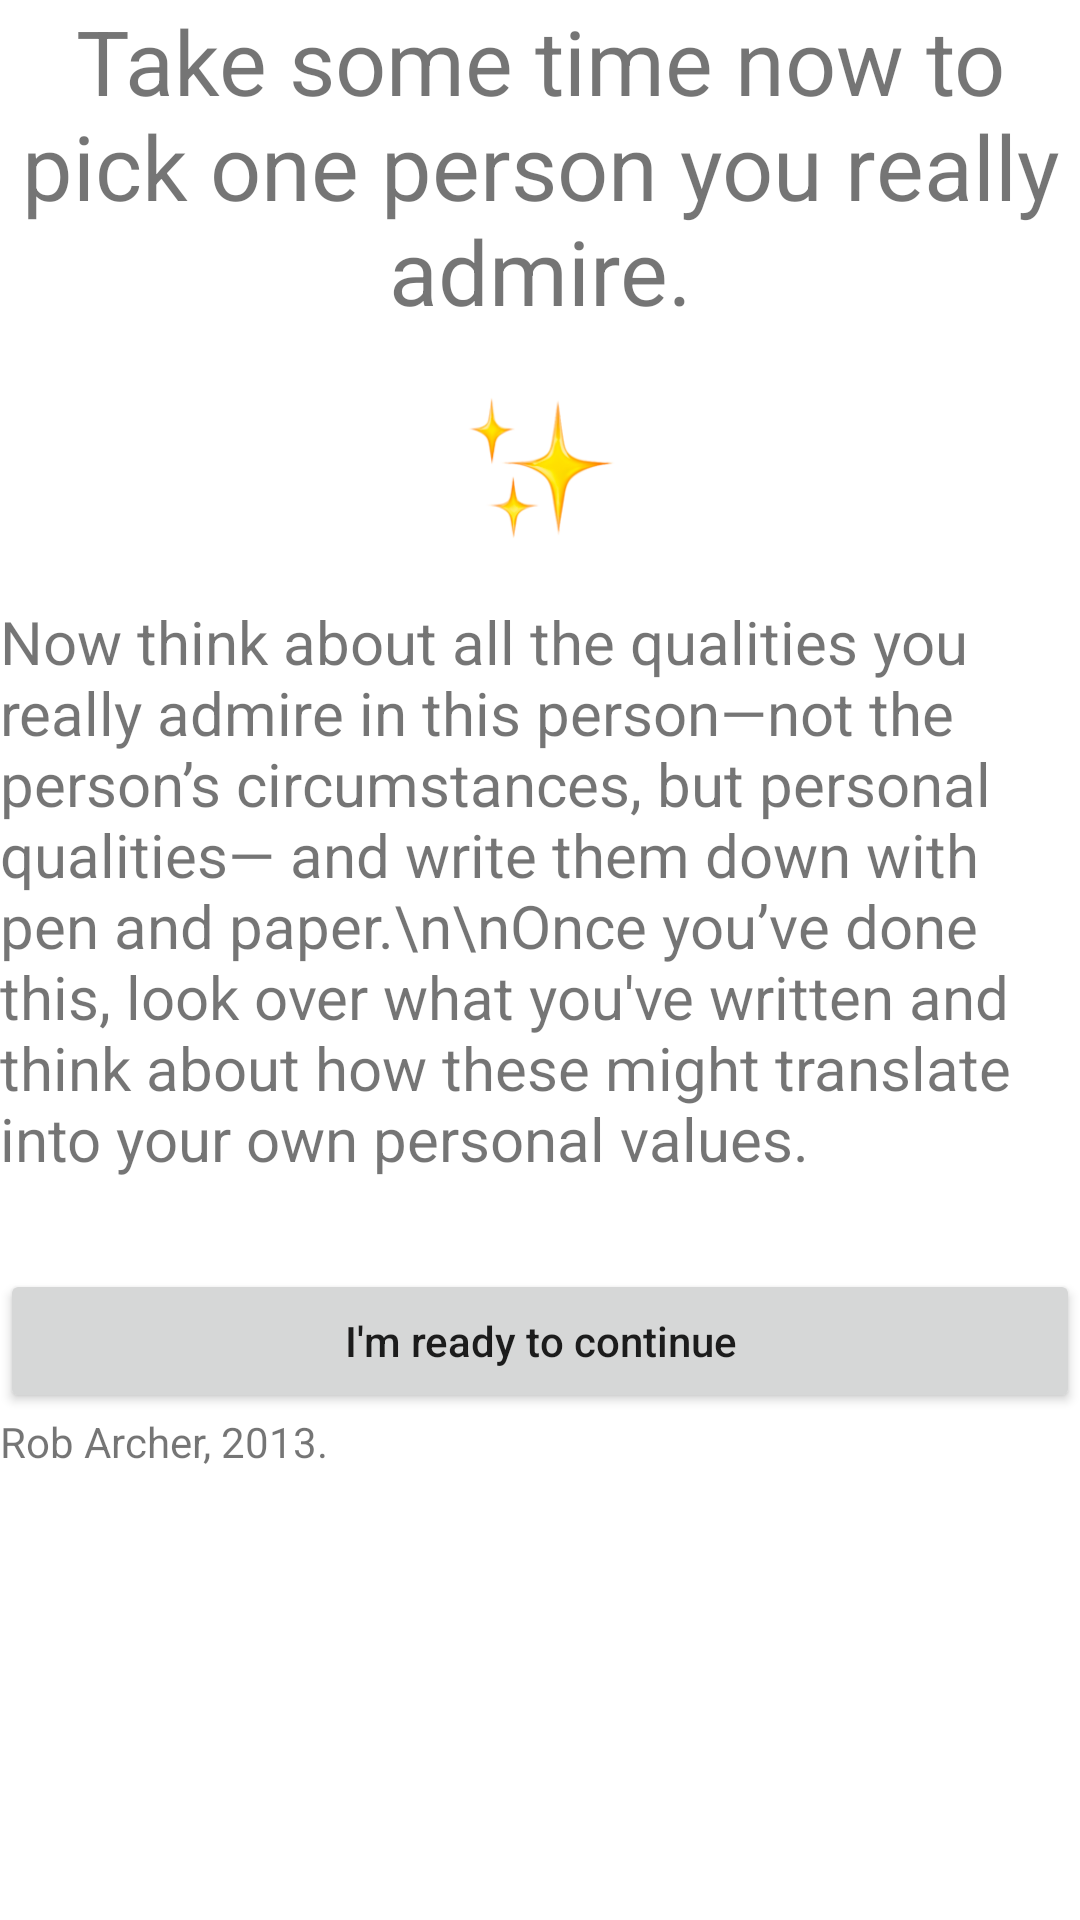

Where to tap for icons on this 1080×1920 app screen, as point (x, y):
star: point (541, 468)
